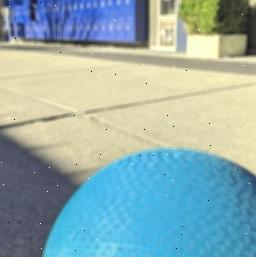algae: (34, 145, 256, 257)
